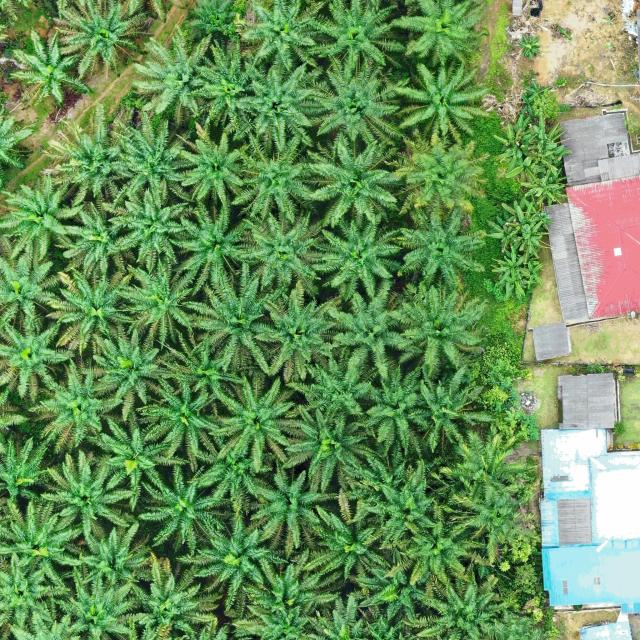Tree: (181, 260, 288, 380), (385, 275, 492, 381), (298, 129, 408, 229), (175, 512, 278, 614), (300, 52, 408, 146), (27, 357, 127, 458), (323, 274, 418, 380), (383, 125, 493, 216), (242, 459, 342, 559), (232, 55, 331, 156), (121, 546, 224, 640), (302, 485, 394, 590), (84, 410, 180, 510), (37, 100, 132, 201), (386, 58, 491, 149), (35, 266, 134, 358), (209, 375, 300, 474), (108, 107, 193, 212), (229, 128, 320, 224), (129, 549, 224, 640), (253, 286, 340, 384), (38, 450, 130, 542), (282, 400, 377, 488), (129, 21, 215, 118), (309, 213, 403, 301), (440, 428, 540, 508), (135, 374, 220, 468), (118, 252, 196, 354), (388, 202, 486, 281), (238, 208, 328, 294), (102, 179, 191, 265), (0, 496, 82, 589), (54, 0, 150, 79), (137, 464, 225, 550), (240, 548, 340, 623), (54, 195, 138, 284), (450, 486, 542, 566), (0, 306, 74, 405), (162, 331, 247, 417), (0, 175, 88, 258), (307, 0, 409, 71), (170, 198, 250, 288), (418, 363, 498, 453), (168, 122, 249, 209), (356, 545, 443, 625), (365, 362, 434, 462), (288, 341, 380, 416), (387, 0, 489, 67), (91, 324, 169, 409), (2, 28, 82, 110), (416, 575, 516, 640), (189, 34, 257, 129), (366, 458, 441, 544), (194, 434, 276, 512), (60, 565, 141, 640), (240, 0, 323, 70), (399, 516, 479, 586), (0, 552, 72, 629), (77, 521, 152, 593), (502, 199, 550, 255), (531, 112, 572, 177), (492, 247, 544, 297), (522, 168, 570, 208), (494, 122, 536, 167), (485, 213, 523, 250), (503, 154, 543, 184), (516, 33, 542, 60), (524, 80, 553, 101), (520, 94, 538, 116)
